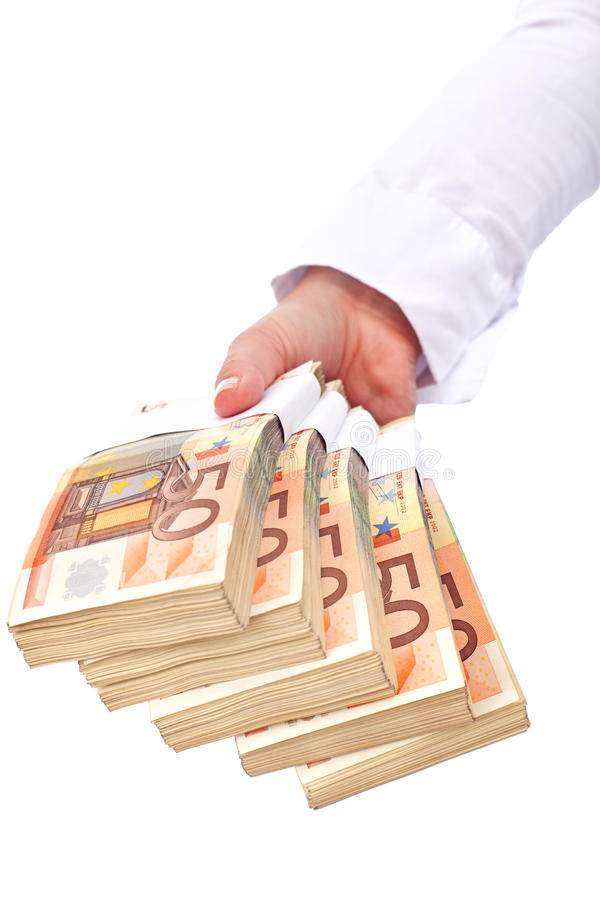billete: (7, 357, 330, 670), (79, 373, 353, 716), (292, 430, 532, 820), (145, 397, 401, 755), (234, 412, 475, 778)
